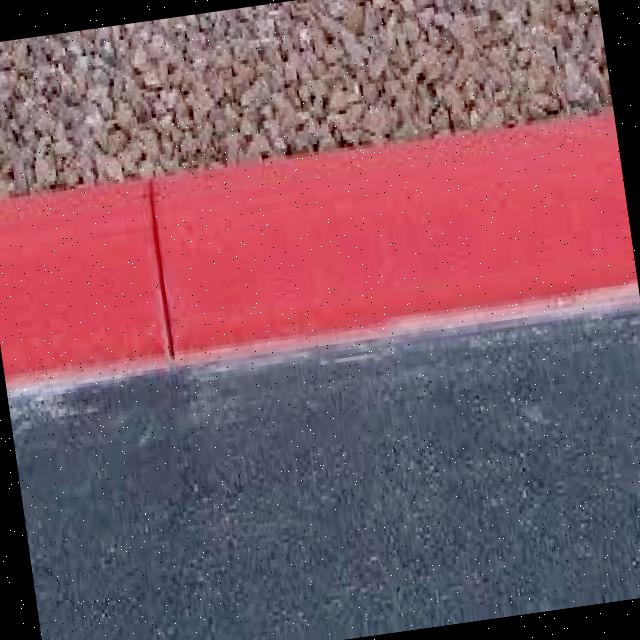curb: (1, 111, 639, 386)
